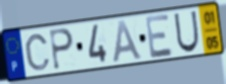4: (87, 22, 109, 65)
A: (112, 20, 145, 65)
C: (24, 33, 52, 73)
E: (144, 12, 175, 60)
P: (48, 27, 75, 72)
U: (173, 10, 201, 55)
